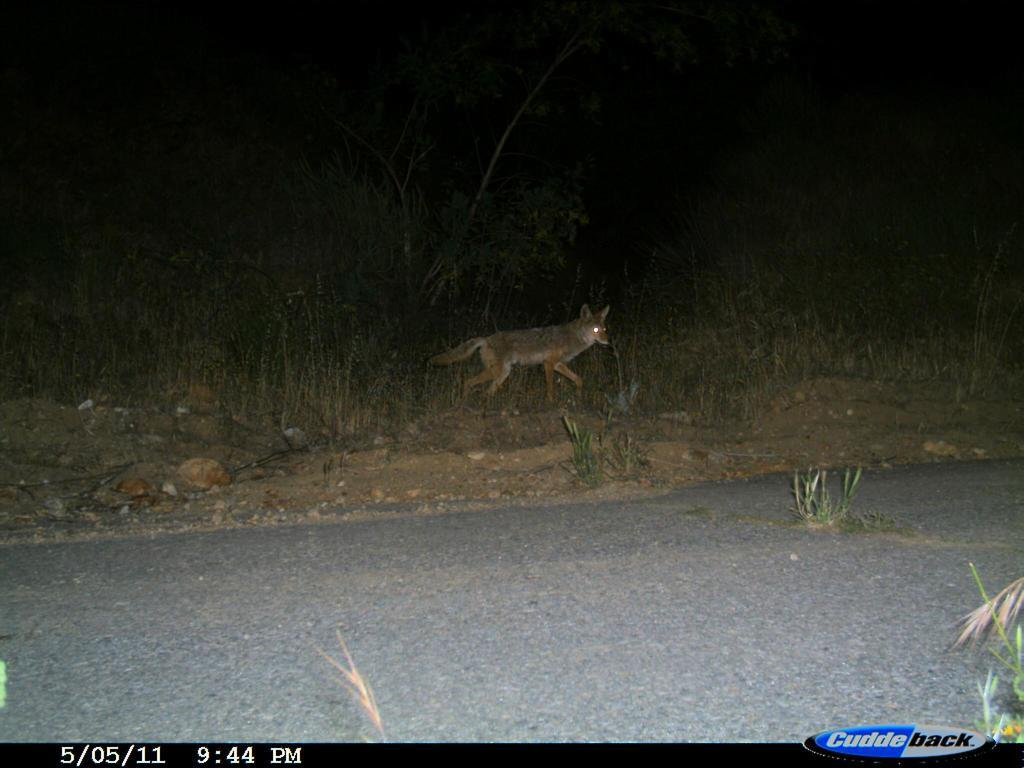coyote: (423, 296, 620, 411)
